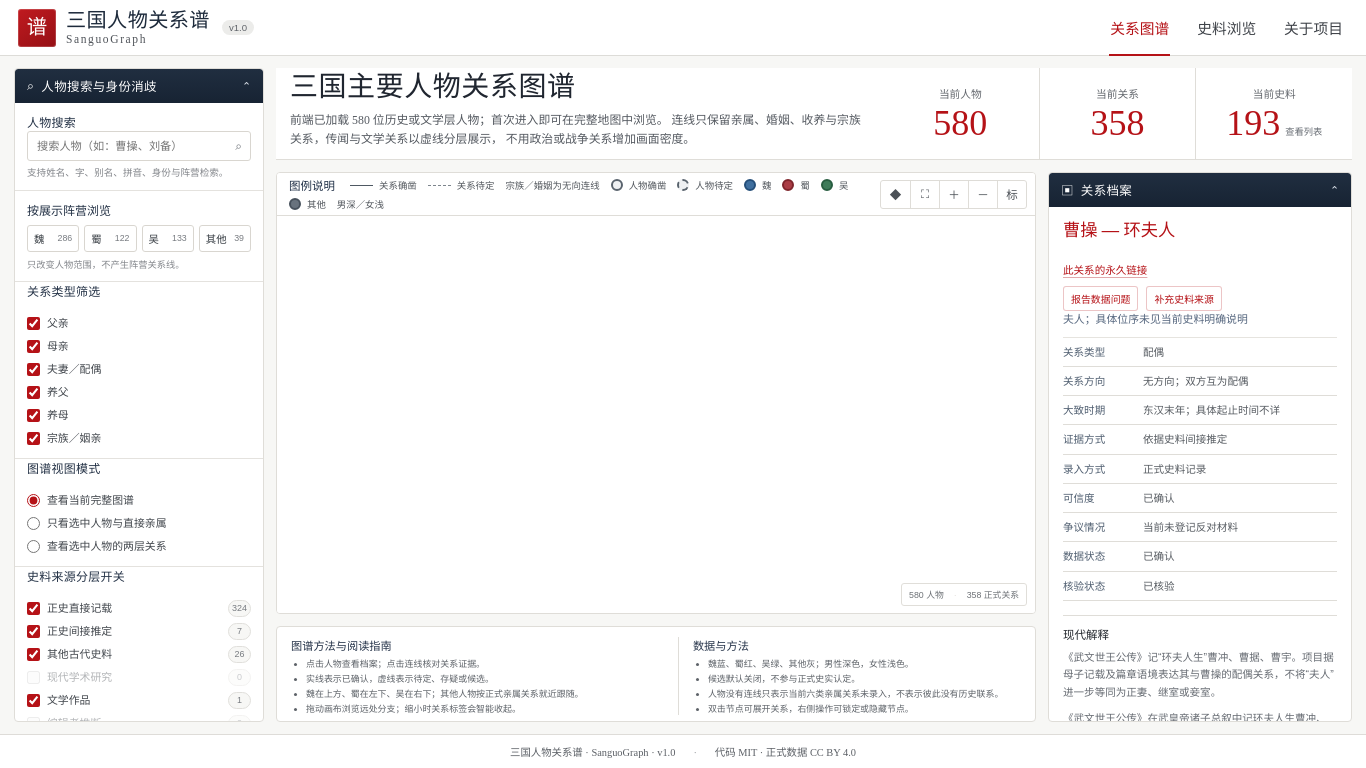
Test: application routes and home interaction › selects a fifth-batch Shu-family person already loaded in the complete graph
In the search field labelled "人物搜索": (139, 146) [27,131,251,161], type "刘谌"
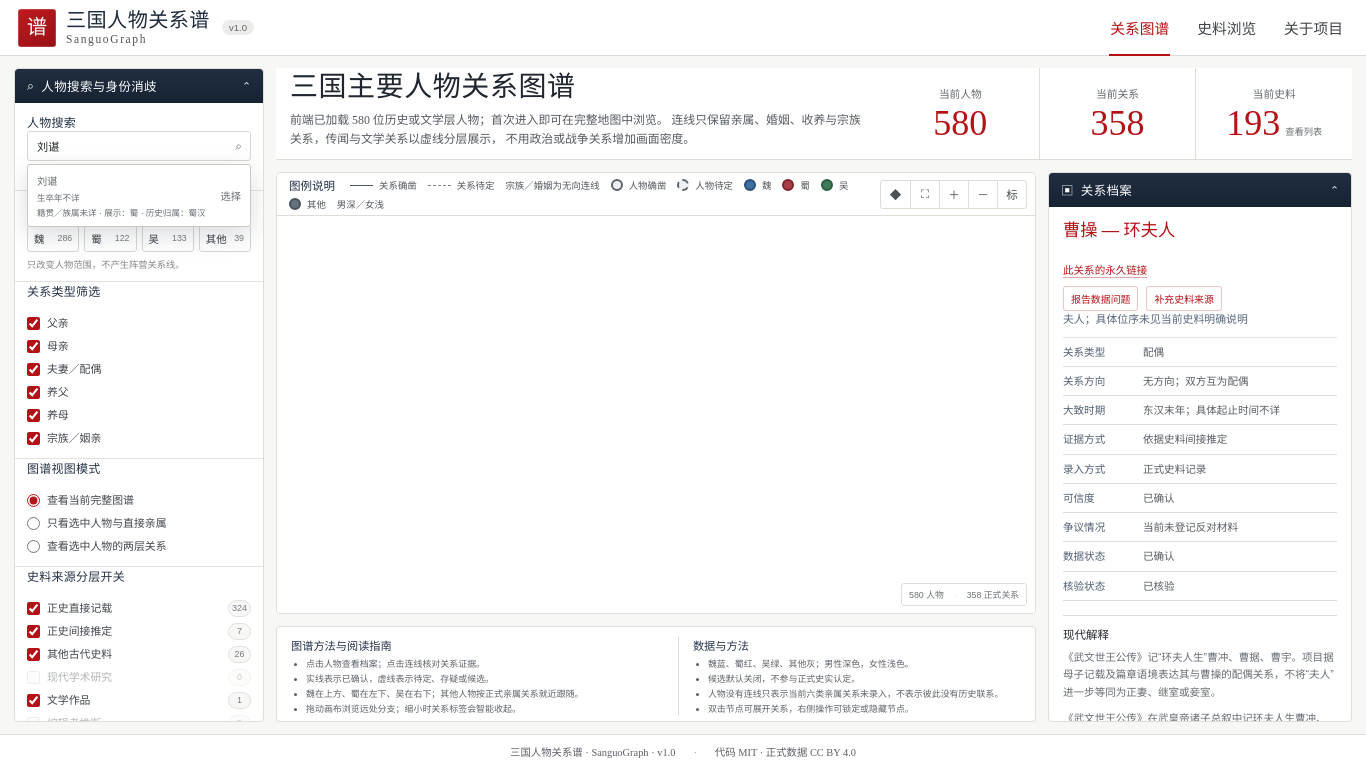
Click the button "刘谌 生卒年不详 籍贯／族属未详 · 展示：蜀 · 历史归属：蜀汉 选择": (139, 196) [28,165,250,226]
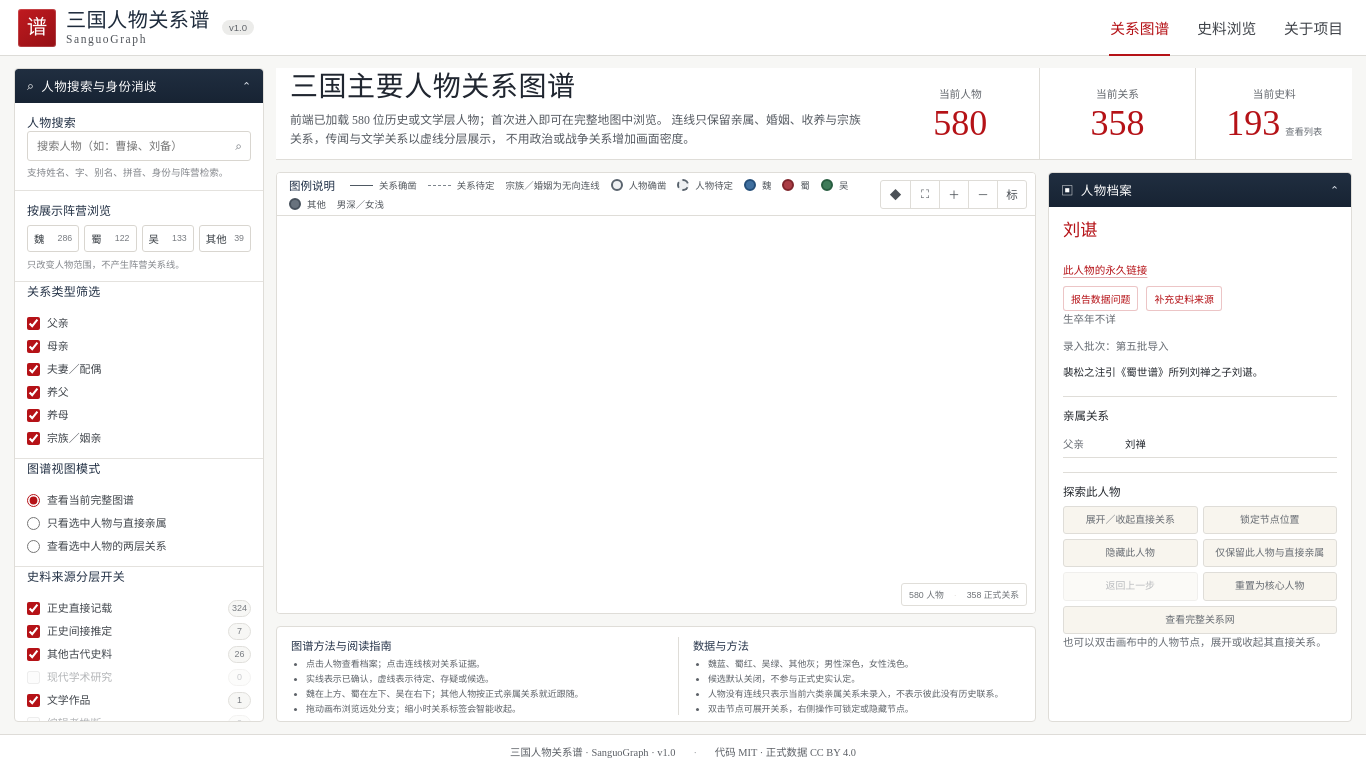
Expected: the heading "刘谌" is shown, [1063,221,1098,240]
Expected: the text "录入批次：第五批导入" is shown, [1063,340,1168,352]
